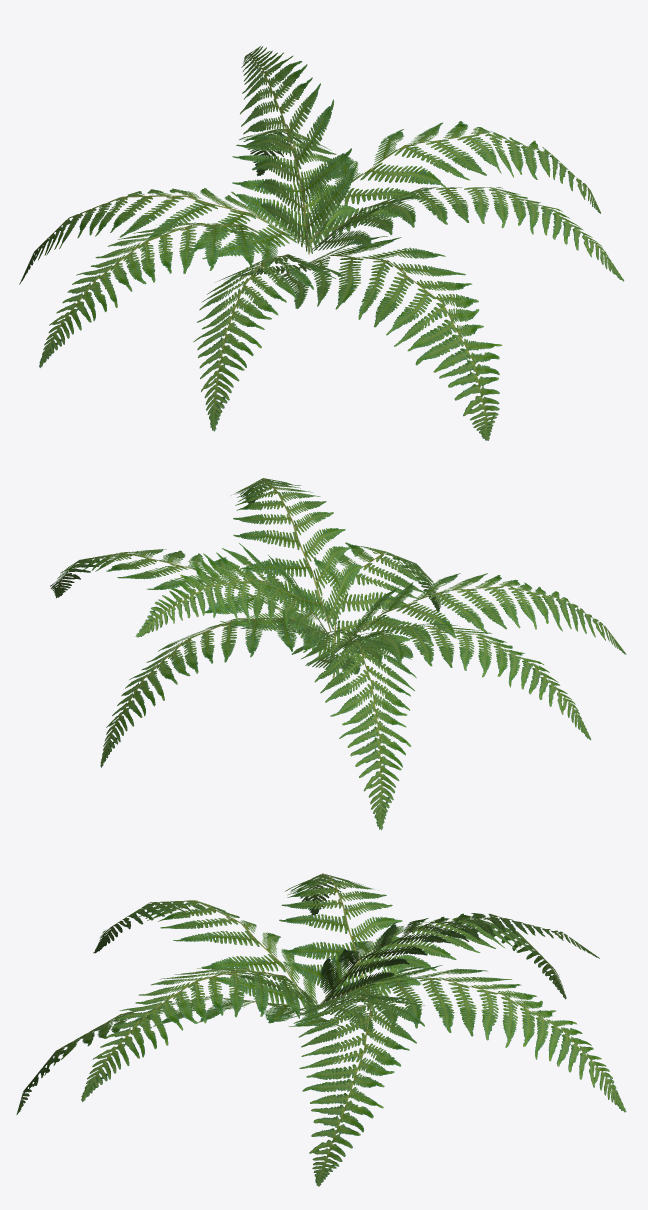
File: Fern-01.fbx
3 views of the same model, one above another, from view 1: azimuth 30°, elevation 25°; view 2: azimuth 150°, elevation 25°; view 3: azimuth 270°, elevation 25° (orthographic). The views are drawn at different scales.
Parts seen in each view (by area): view 1: Fern-01; view 2: Fern-01; view 3: Fern-01.
Part boxes in pixels (x1=…): Fern-01: x1=19, y1=46, x2=624, y2=440; Fern-01: x1=50, y1=478, x2=626, y2=830; Fern-01: x1=16, y1=873, x2=626, y2=1186.
Bounding box in the file's own units: 363 × 141 × 326.
